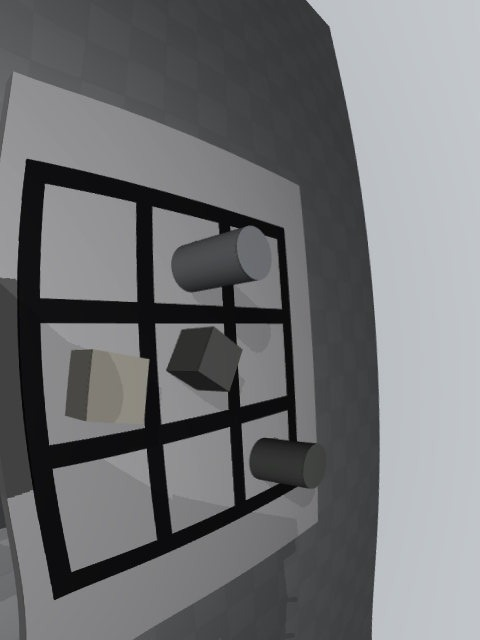can: (171, 225, 272, 293)
cube: (166, 326, 243, 392)
cylinder: (250, 438, 327, 489)
foam: (65, 349, 150, 424)
